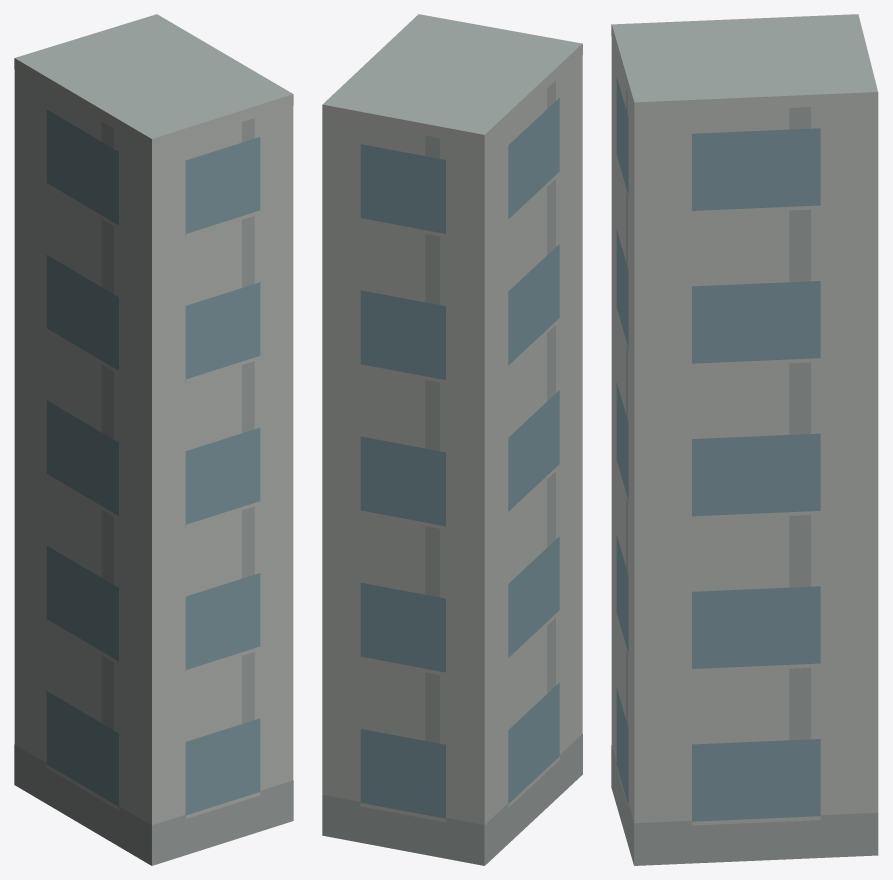
Rendered from survey-upis-32647864.glb.
The picture shows the model from 3 angles, left to right: view 1: azimuth 30°, elevation 25°; view 2: azimuth 150°, elevation 25°; view 3: azimuth 270°, elevation 25°; orthographic projection. The views are drawn at different scales.
Visible parts, largest first — view 1: survey-upis-32647864.tmp; view 2: survey-upis-32647864.tmp; view 3: survey-upis-32647864.tmp.
Boxes of the visible parts, bbox=[...] form: survey-upis-32647864.tmp: bbox=[14, 14, 293, 865]; survey-upis-32647864.tmp: bbox=[322, 14, 582, 865]; survey-upis-32647864.tmp: bbox=[611, 14, 878, 865].
Bounding box in the file's own units: 3.8 × 15.25 × 4.83.
